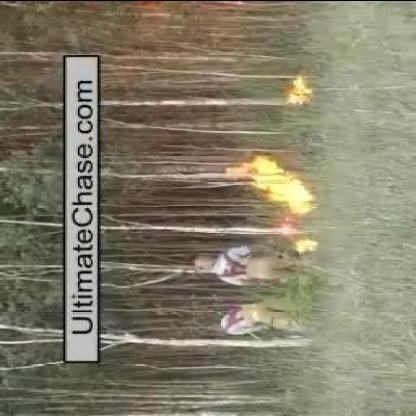foggia-v2-map80-epoch100 - v1 4323: (286, 171, 314, 226), (257, 154, 281, 200), (287, 78, 313, 106)
